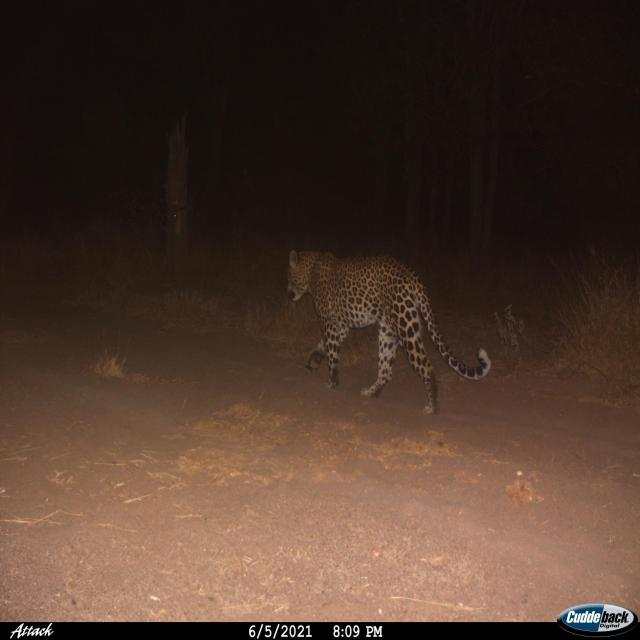Leopard: (278, 245, 498, 424)
